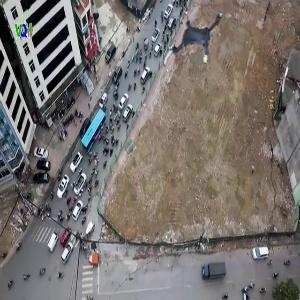drone: (159, 10, 229, 80)
